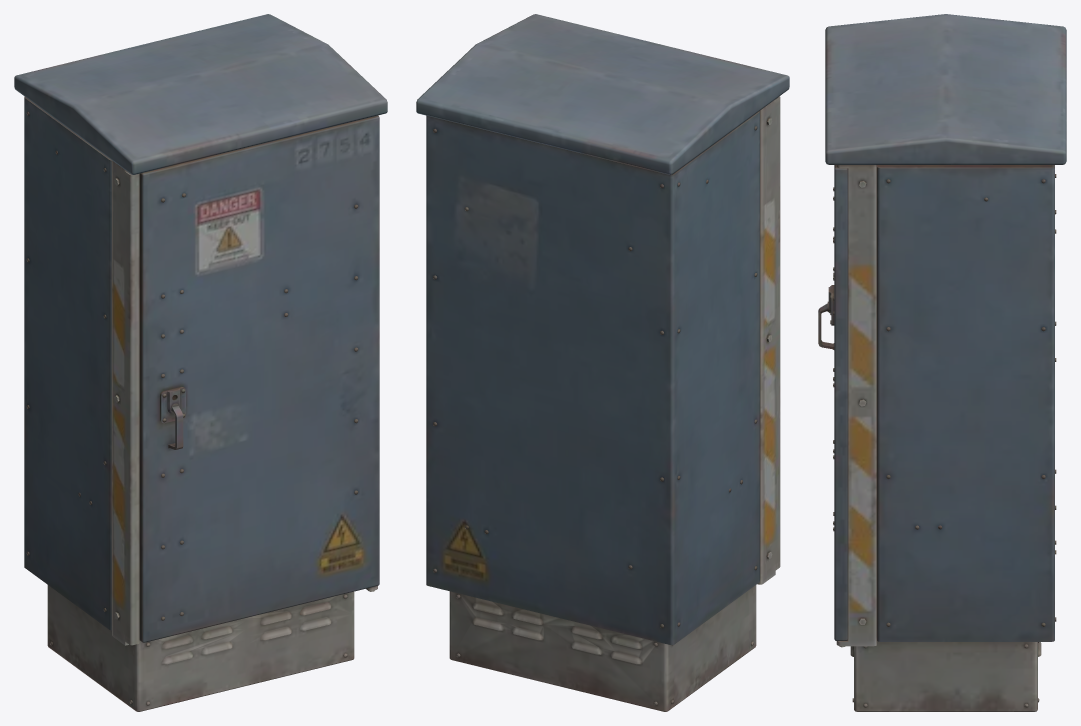
Rendered from utility_box.glb.
The picture shows the model from 3 angles, left to right: view 1: azimuth 30°, elevation 25°; view 2: azimuth 150°, elevation 25°; view 3: azimuth 270°, elevation 25°; orthographic projection.
Parts seen in each view (by area): view 1: utility_box_01_box; view 2: utility_box_01_box; view 3: utility_box_01_box.
Part boxes in pixels (left/top/right/bottom): utility_box_01_box: left=14, top=14, right=387, bottom=711; utility_box_01_box: left=416, top=14, right=789, bottom=711; utility_box_01_box: left=818, top=14, right=1066, bottom=711.
Size of the model in its own units: 0.52 by 1.12 by 0.4319.
1 material, 1 textured.
